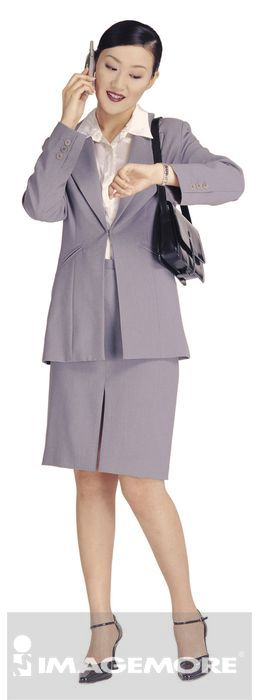talk: (60, 39, 148, 137)
